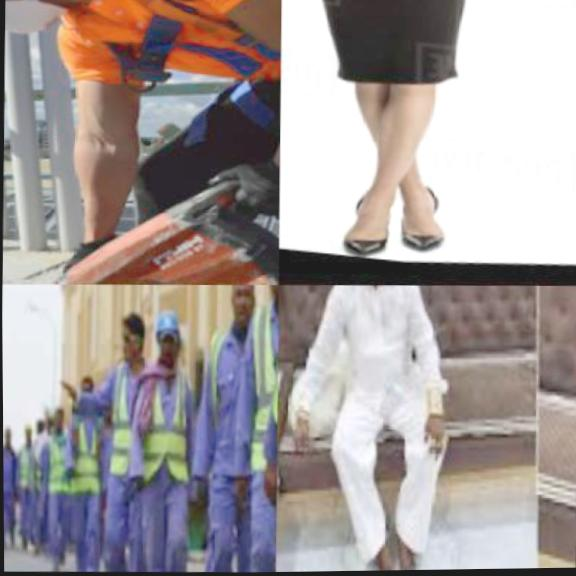safety_vest: (64, 0, 282, 118), (199, 325, 267, 479), (132, 365, 204, 498), (238, 306, 280, 490), (102, 360, 148, 484), (64, 420, 112, 510), (44, 440, 76, 507)
